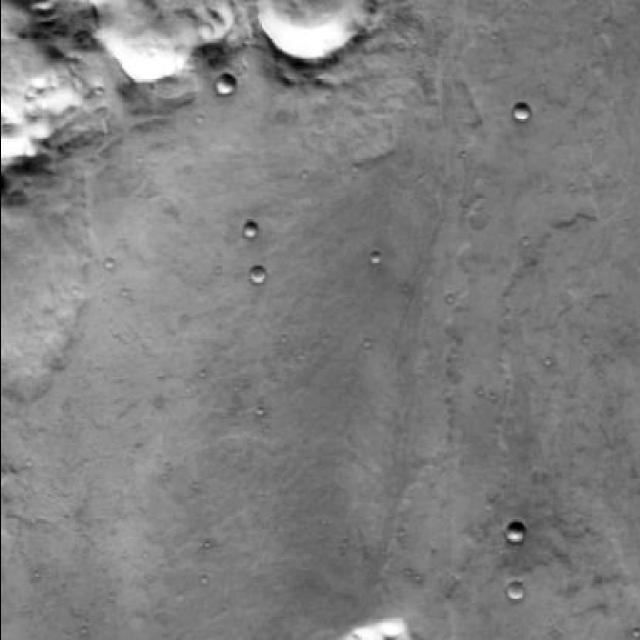crater: (507, 522, 527, 544), (214, 75, 234, 96), (512, 102, 530, 120), (249, 267, 266, 284), (504, 586, 522, 602), (242, 219, 258, 235)
